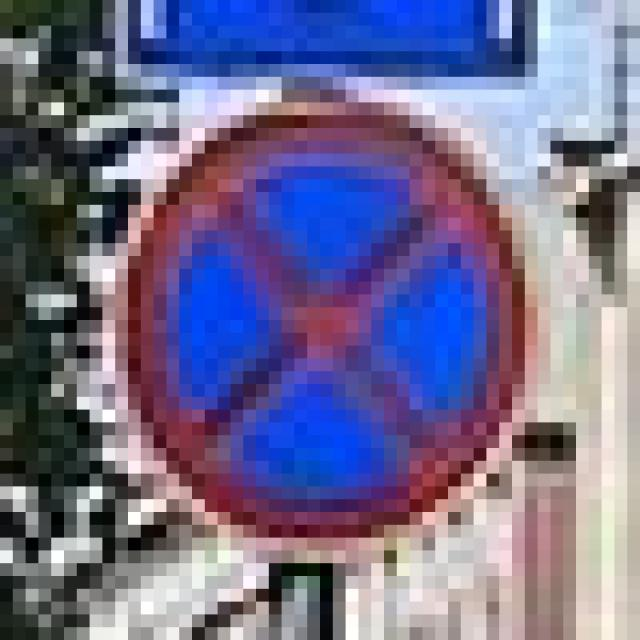no_parking: (102, 90, 512, 538)
